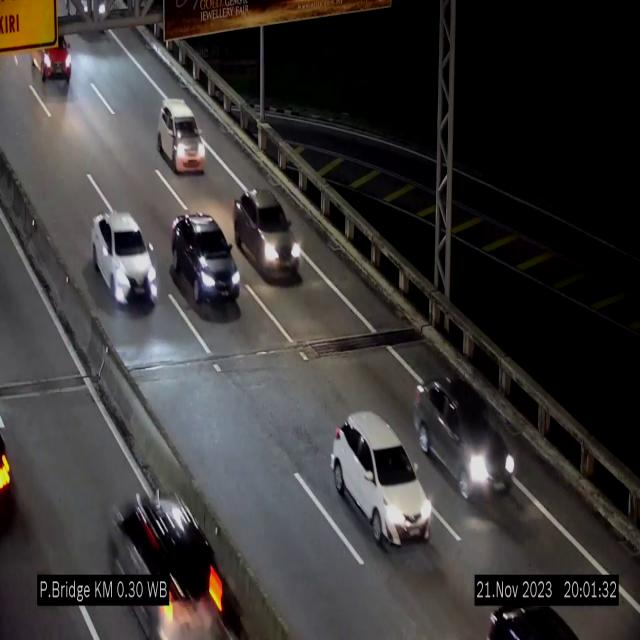Car: (104, 490, 230, 640), (332, 412, 432, 548), (414, 375, 517, 506), (170, 212, 241, 310), (90, 212, 158, 304), (234, 188, 302, 280), (157, 99, 205, 173), (27, 28, 80, 87)
